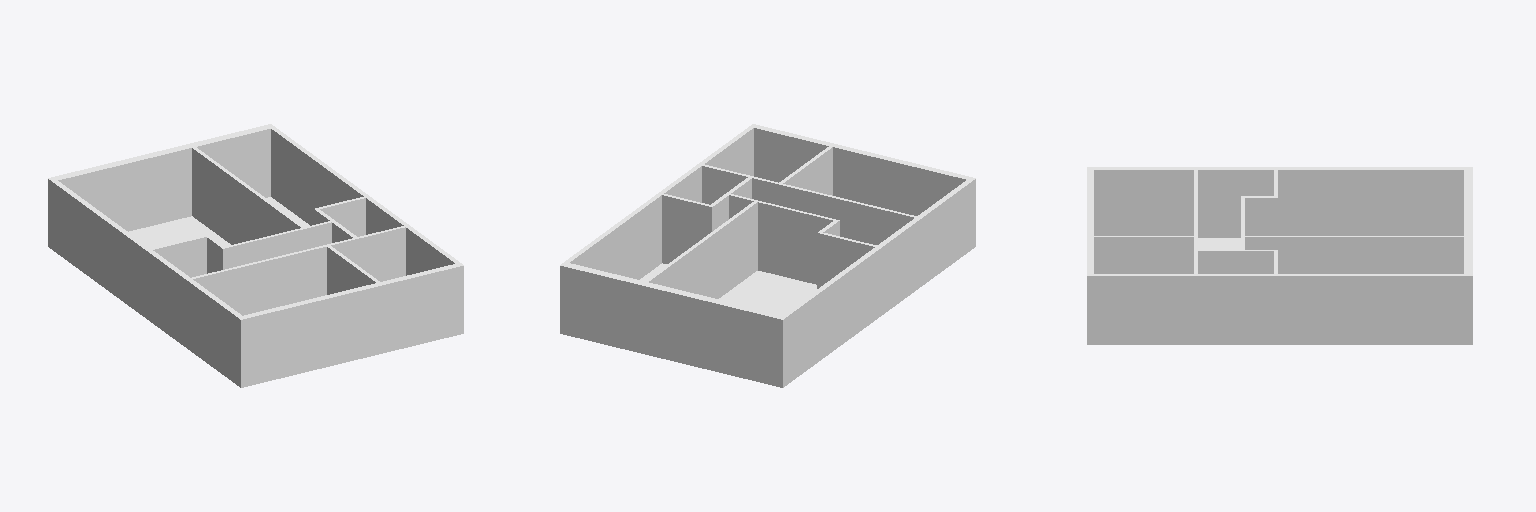
Rendered from maison_mur.obj.
3 renders of one model, left to right at view 1: azimuth 30°, elevation 25°; view 2: azimuth 150°, elevation 25°; view 3: azimuth 270°, elevation 25°, orthographic.
Parts seen in each view (by area): view 1: Plane001; view 2: Plane001; view 3: Plane001.
Part boxes in pixels (left/top/right/bottom): Plane001: left=48, top=124, right=463, bottom=387; Plane001: left=560, top=124, right=975, bottom=387; Plane001: left=1087, top=167, right=1472, bottom=344.
Bounding box in the file's own units: 330 × 96.41 × 495.